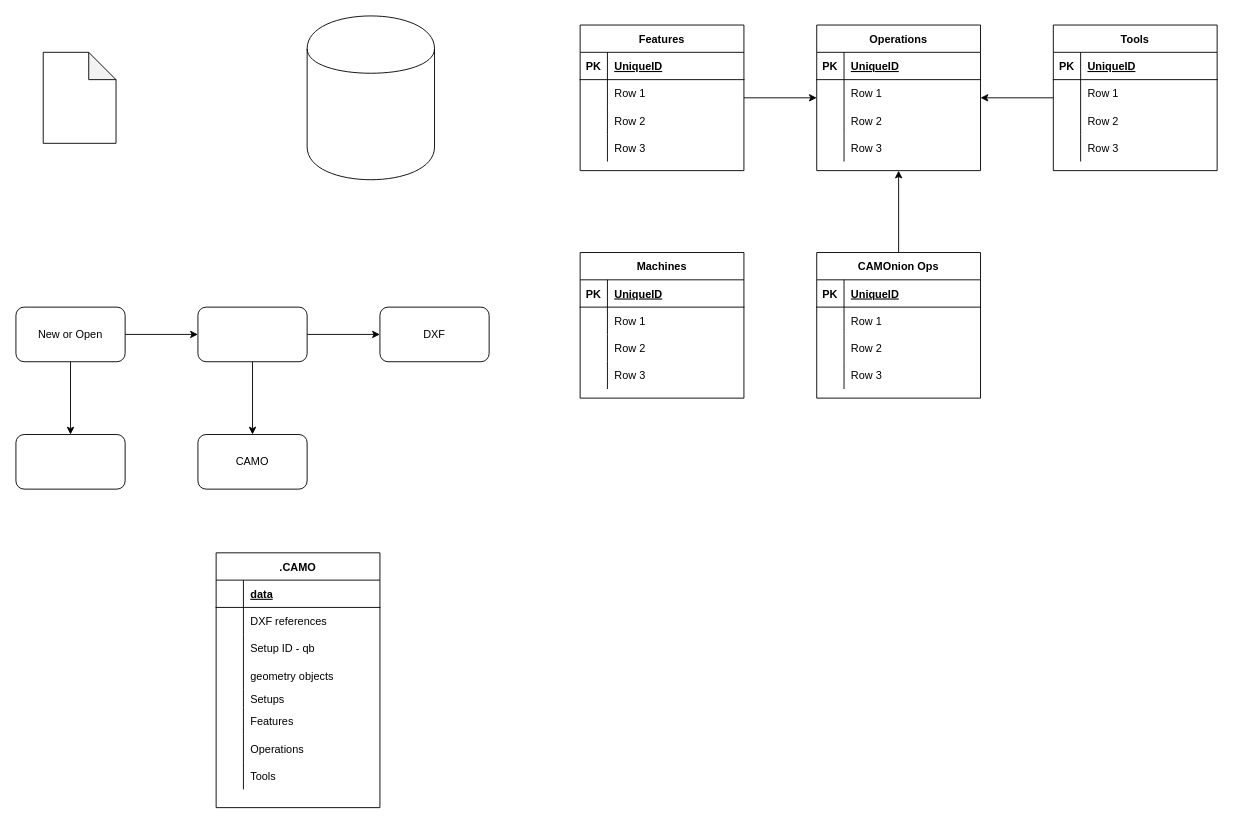
Image size: 1233x824. Some labels were removed from this diagram. The centre of each missing label's shape, as x and y in pixels:
.DXF: (x=79, y=97)
Features Tools Operations Machines Code formats: (x=370, y=97)
New: (x=70, y=461)
Open: (x=252, y=334)
